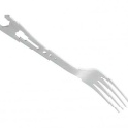Fork: (3, 11, 128, 115)
